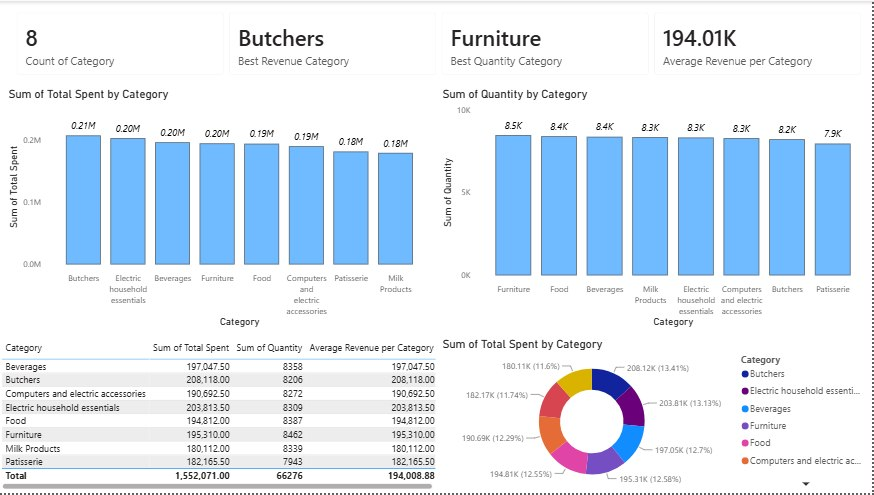

What the dashboard file says about the page in this screenshot:
{"tool":"powerbi","page":{"name":"Category Analysis","canvas":[1280,720],"ordinal":2},"visuals":[{"type":"cardVisual","fields":{"Data":["Count(Retail.Category)","Retail.Best Revenue Category","Retail.Best Quantity Category","Retail.Average Revenue per Category"]},"box":[10.2,0,1270.2,125.9],"z":0},{"type":"clusteredColumnChart","fields":{"Category":["Retail.Category"],"Y":["Sum(Retail.Total Spent)"]},"box":[10.2,125.9,629.3,355.6],"z":1000},{"type":"clusteredColumnChart","fields":{"Category":["Retail.Category"],"Y":["Sum(Retail.Quantity)"]},"box":[645.4,125.9,635.1,355.6],"z":2000},{"type":"tableEx","fields":{"Values":["Retail.Category","Sum(Retail.Total Spent)","Sum(Retail.Quantity)","Retail.Average Revenue per Category"]},"box":[0,491.7,645.4,228.3],"z":3000},{"type":"donutChart","fields":{"Category":["Retail.Category"],"Y":["Sum(Retail.Total Spent)"]},"box":[645.4,491.7,635.1,228.3],"z":4000}]}

Visuals, with their boxes in screenshot pixels (x1, y1, x2, y2), scaled from the page's 1280x720 canvas onto the 874x495 screenshot:
cardVisual - Count(Retail.Category) x Retail.Best Revenue Category: l=7, t=0, r=873, b=87
clusteredColumnChart - Retail.Category x Sum(Retail.Total Spent): l=7, t=87, r=437, b=331
clusteredColumnChart - Retail.Category x Sum(Retail.Quantity): l=441, t=87, r=873, b=331
tableEx - Retail.Category x Sum(Retail.Total Spent): l=0, t=338, r=441, b=494
donutChart - Retail.Category x Sum(Retail.Total Spent): l=441, t=338, r=873, b=494
